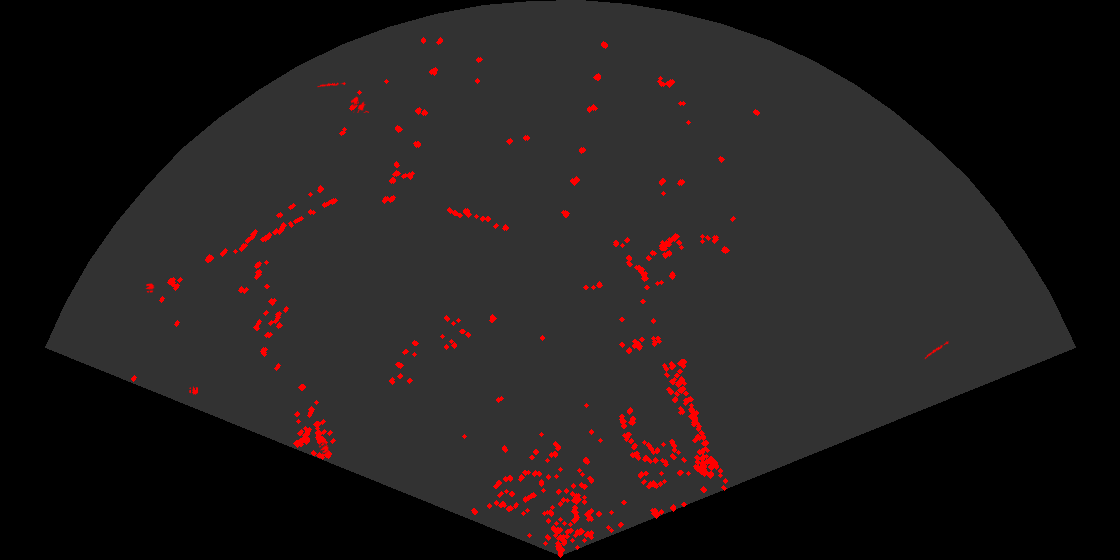ball: (317, 442, 330, 455), (144, 282, 156, 294), (188, 385, 198, 396)
cage: (349, 95, 369, 113)
chain: (921, 339, 949, 360), (316, 81, 346, 89)
